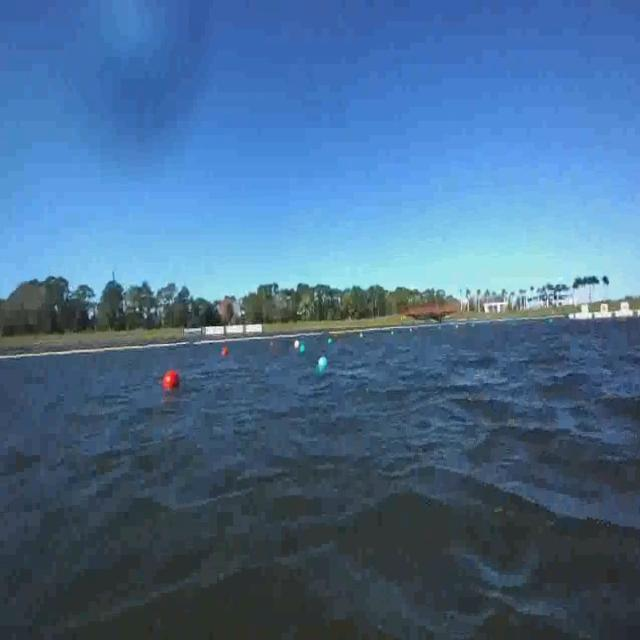green-buoy: (318, 354, 328, 375), (296, 343, 306, 357), (327, 337, 335, 349)
red-buoy: (164, 372, 182, 389), (220, 344, 232, 362)
